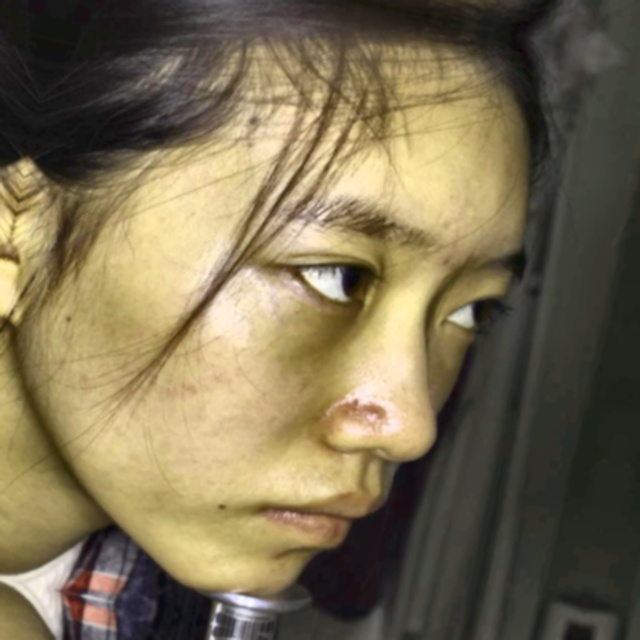comedone: (413, 240, 461, 277), (356, 396, 391, 429)
